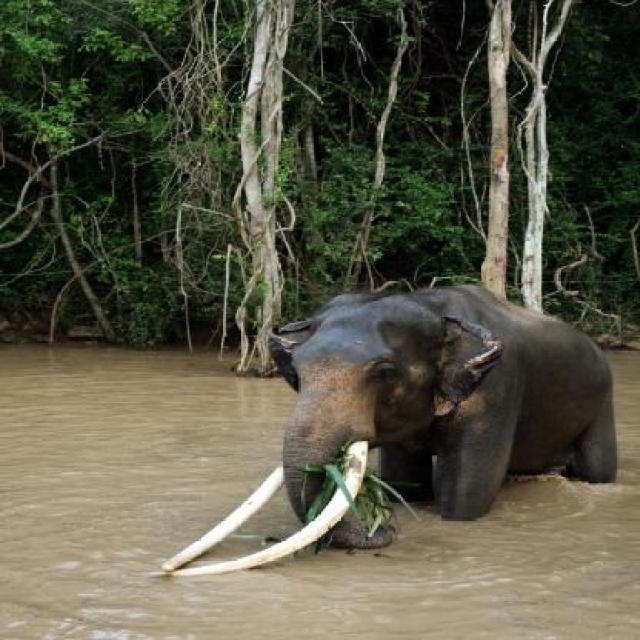Elephant: (165, 277, 624, 586)
